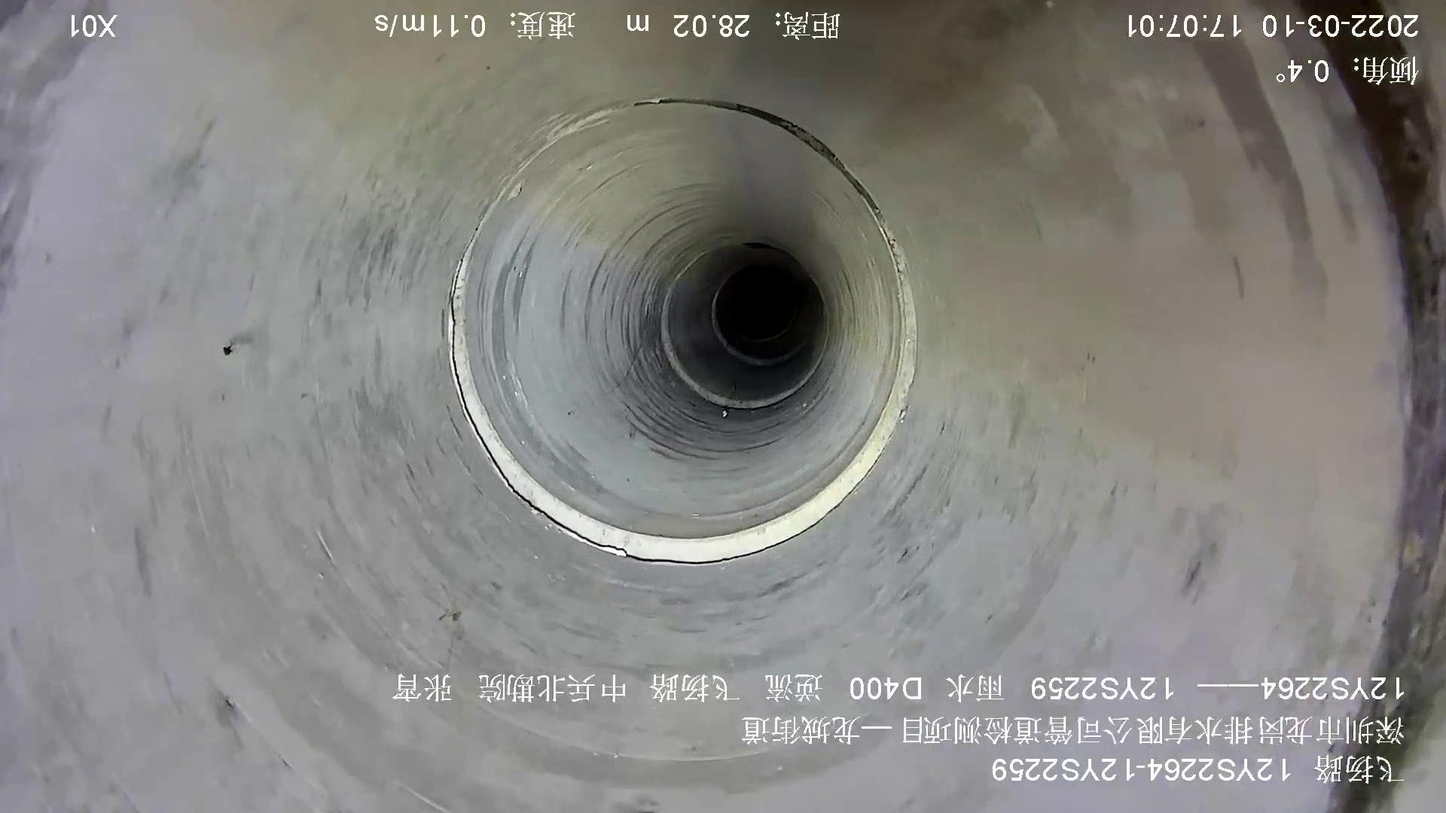CKTJ: (447, 99, 917, 564), (659, 241, 830, 411), (709, 279, 801, 366)
